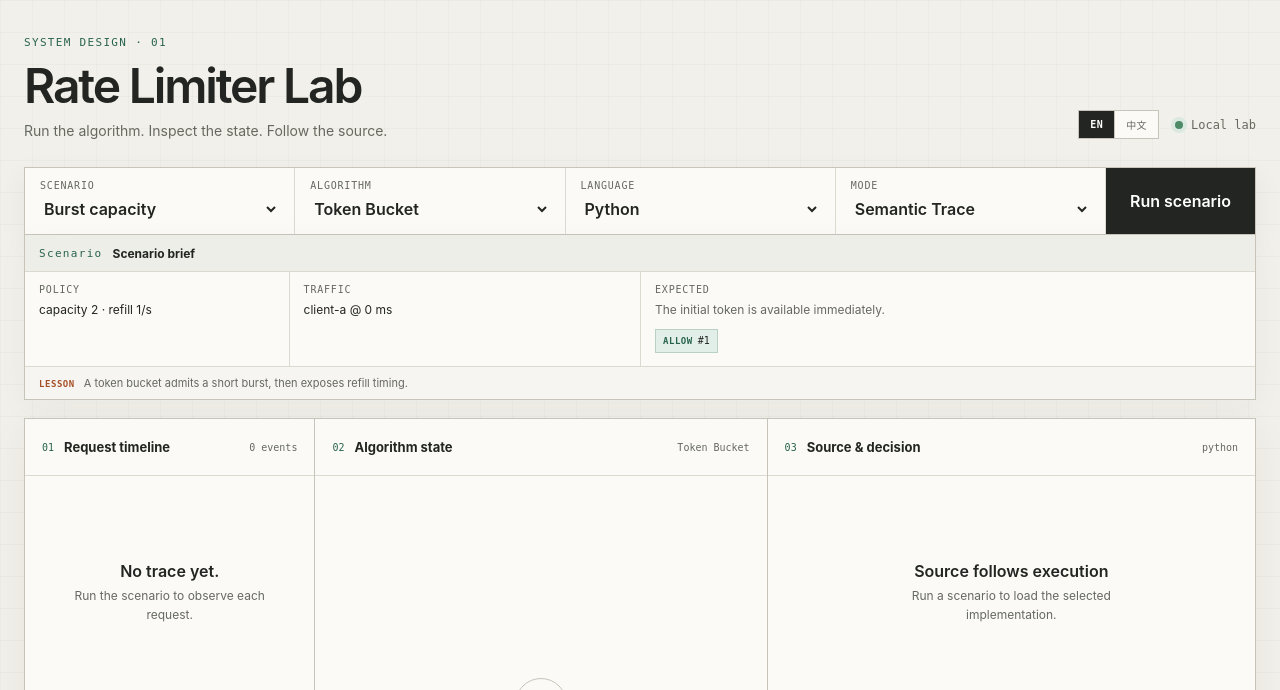
Rate Limiter Lab › switches visible chrome to Chinese without fetching or translating catalog data
This screenshot has width=1280, height=690.
What coordinates should you click on to do the following:
click the button "中文"
I would click on:
 (1136, 125)
Its box is [1114,111,1158,138].
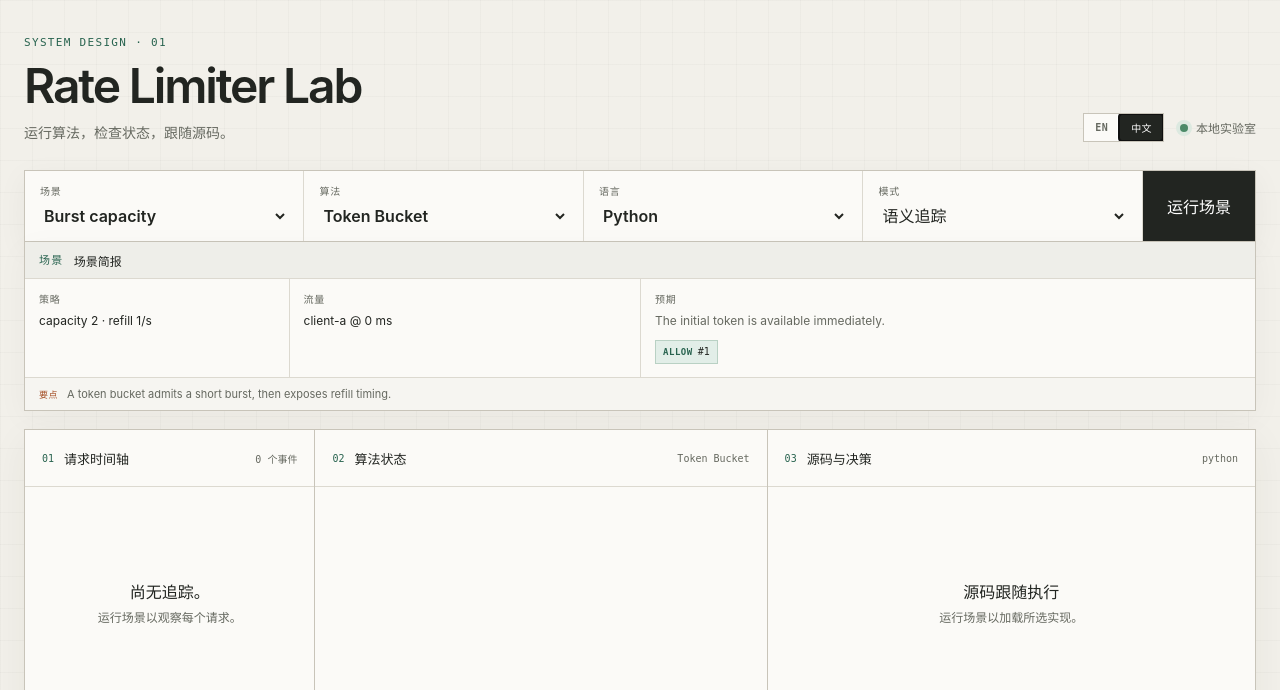
Expected: the text "client-a @ 0 ms" is shown, [304,313,392,328]
Now the heading "场景简报" is shown, box [74,252,122,269]
Now the button "运行场景" is shown, box [1143,171,1255,241]
